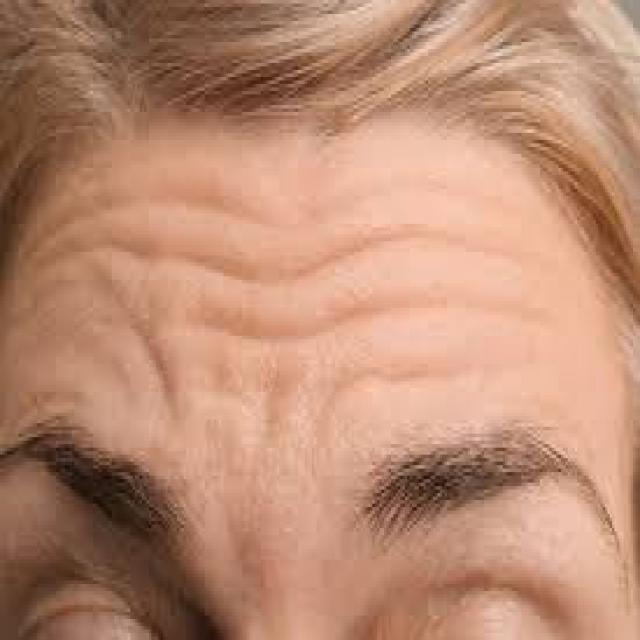Wrinkles: (104, 264, 547, 427), (18, 176, 543, 252), (36, 225, 556, 287), (315, 352, 532, 425)
